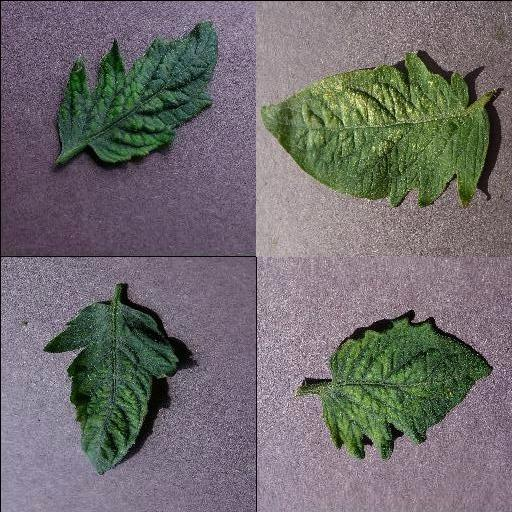Mosaic Virus: (321, 316, 493, 462), (40, 299, 179, 474), (57, 22, 219, 166)
Spider Mites: (259, 50, 493, 209)
